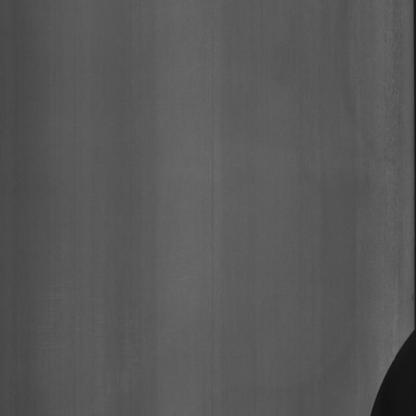crescent_gap: (364, 308, 416, 416)
